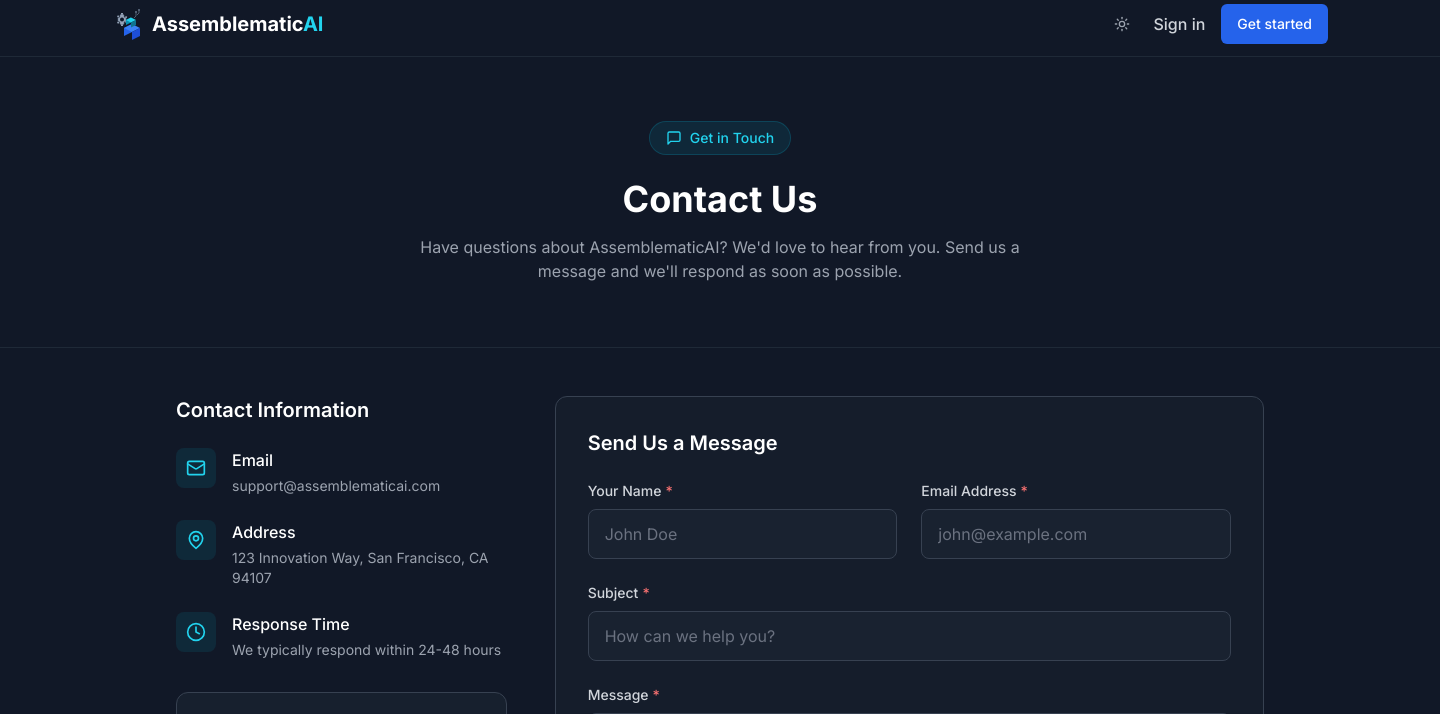
ContactPage › Form Validation › shows error for short name
The image size is (1440, 714).
Type "J" into the field labelled "Your Name*".
click(743, 534); type("J")  # box 588,509 -> 897,559
(page scrolled)
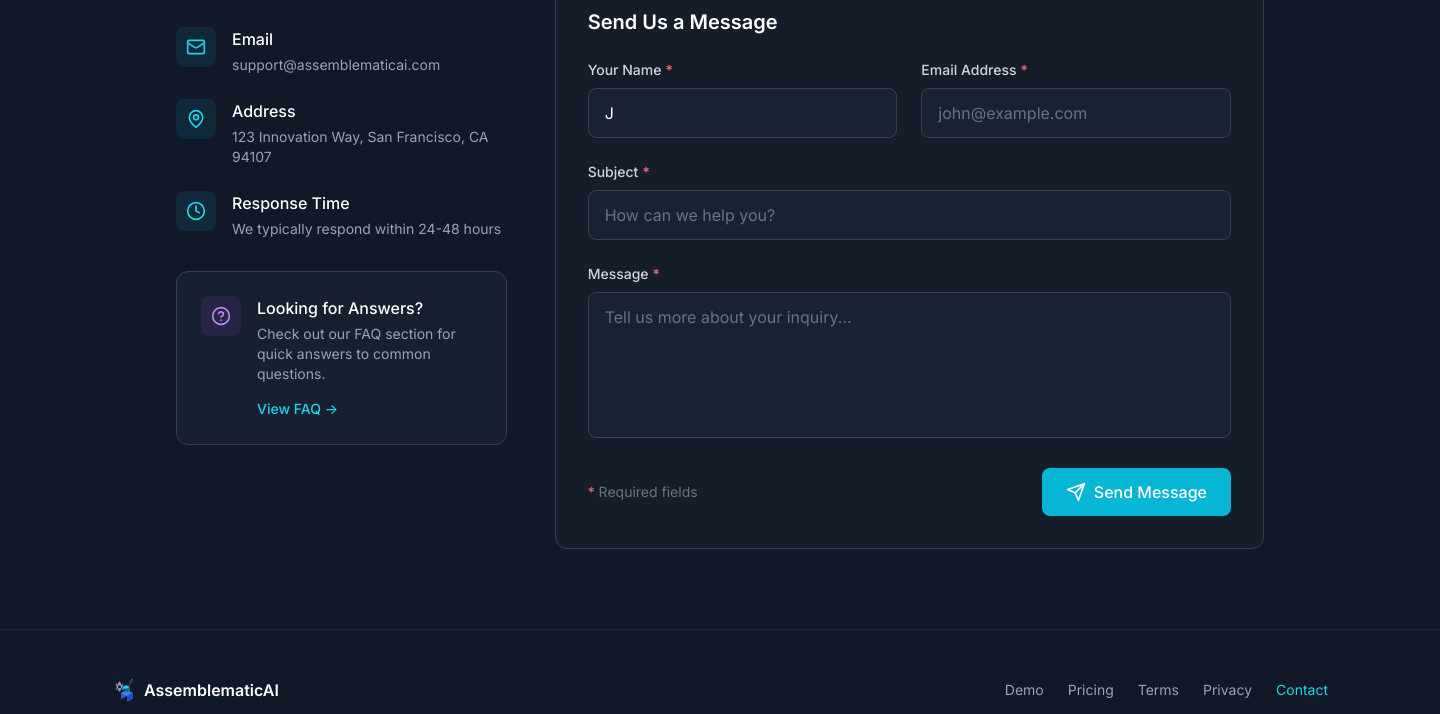
Click the button "Send Message".
click(1136, 492)  # box 1042,468 -> 1231,516
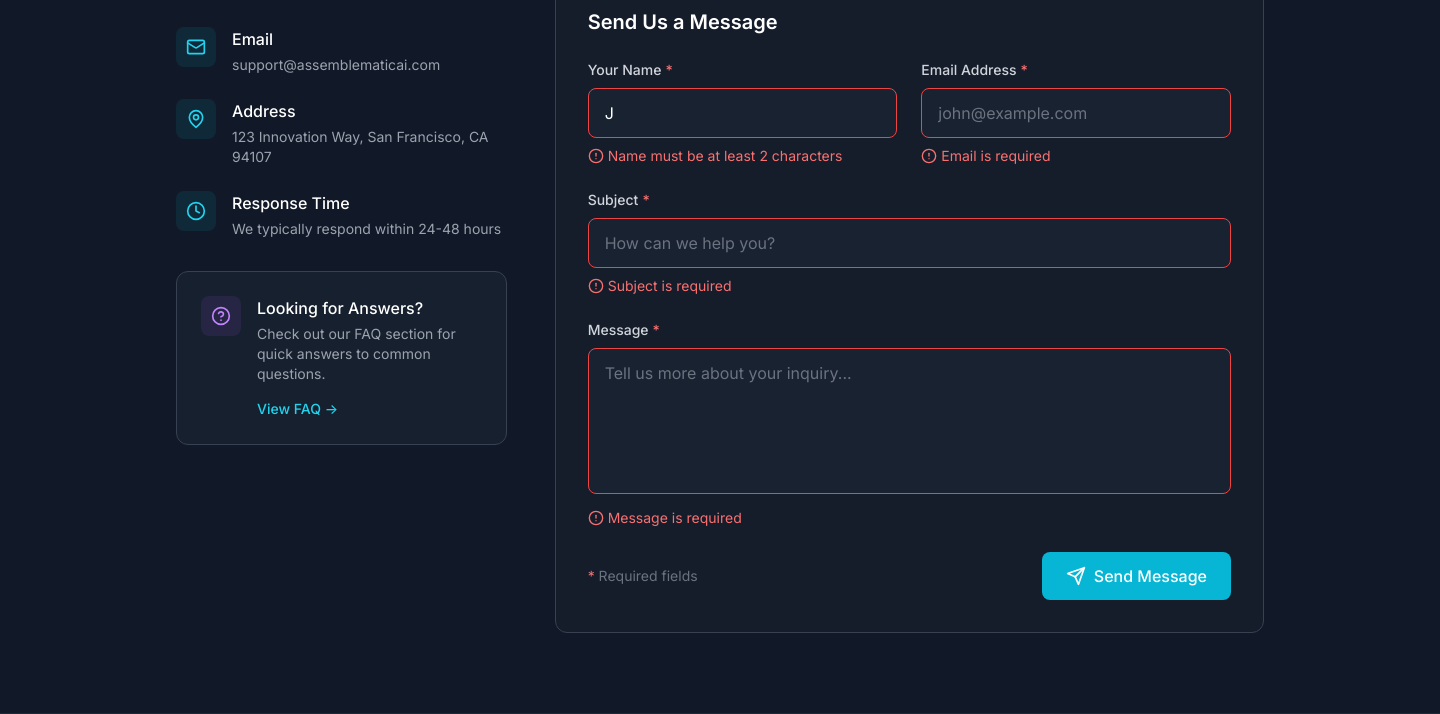
Now the text "Name must be at least 2 characters" is shown, box 588,147 -> 842,164
